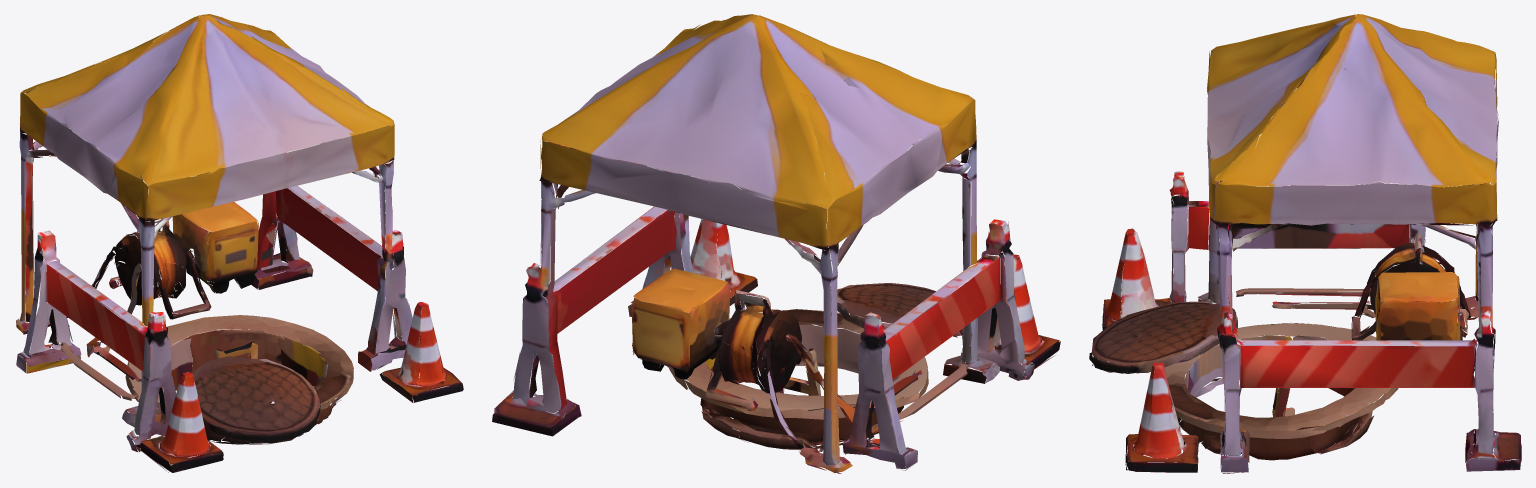
Rendered from h3-manhole-works.glb.
3 renders of one model, left to right at view 1: azimuth 30°, elevation 25°; view 2: azimuth 150°, elevation 25°; view 3: azimuth 270°, elevation 25°, orthographic. The views are drawn at different scales.
Parts seen in each view (by area): view 1: tmpr7i6jk6z.ply; view 2: tmpr7i6jk6z.ply; view 3: tmpr7i6jk6z.ply.
Part boxes in pixels (x1,y1,x2,y2): tmpr7i6jk6z.ply: [16, 14, 463, 472]; tmpr7i6jk6z.ply: [492, 14, 1060, 473]; tmpr7i6jk6z.ply: [1089, 14, 1521, 473].
Size of the model in its own units: 1.82 by 2 by 1.93.
Materials: 1 (1 with a texture image).
